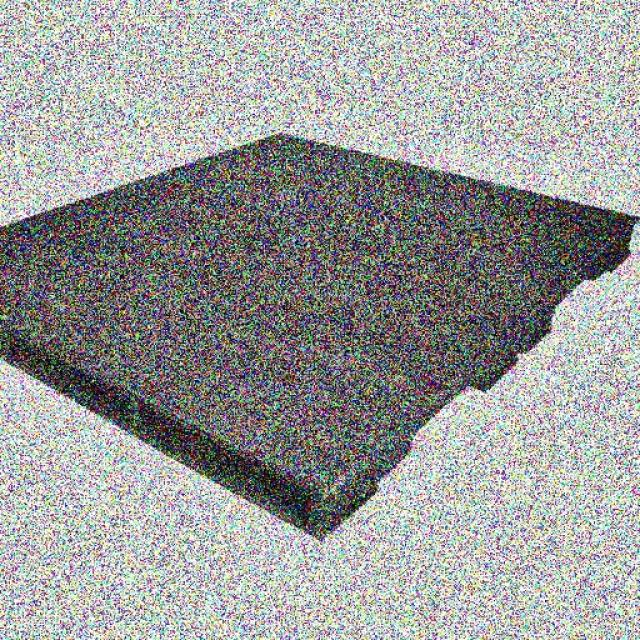non-igps: (0, 123, 640, 549)
